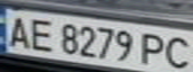2: (75, 22, 100, 58)
7: (93, 25, 118, 61)
8: (54, 20, 81, 56)
9: (112, 27, 139, 63)
A: (3, 12, 36, 48)
C: (160, 34, 193, 72)
E: (24, 16, 60, 52)
P: (136, 30, 172, 66)
